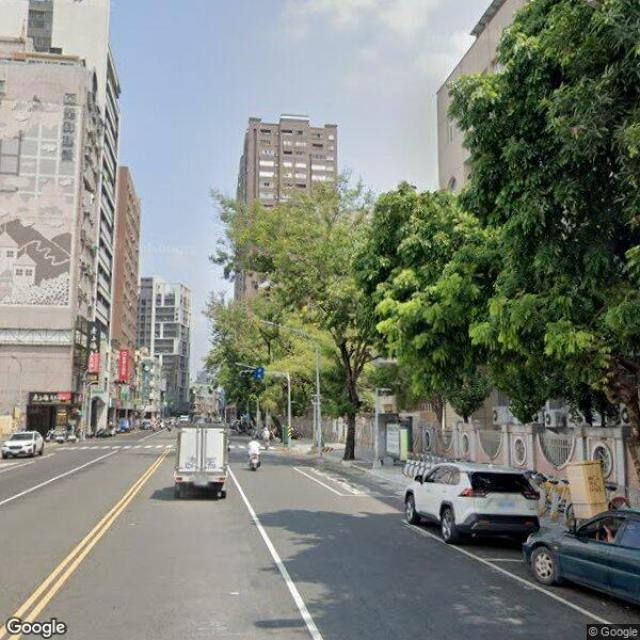Legalparking: (378, 416, 640, 638), (0, 416, 62, 484)
